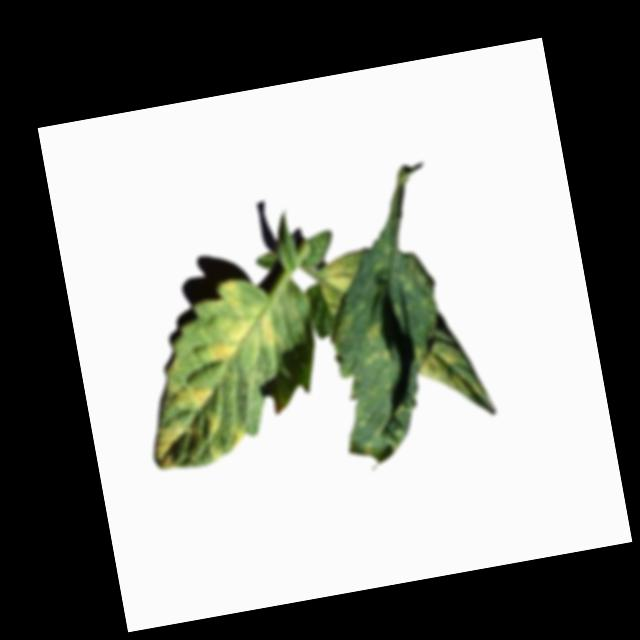Leaf_Mold: (192, 272, 284, 364), (417, 341, 469, 401), (151, 415, 200, 474), (157, 375, 217, 416), (318, 251, 364, 301), (357, 321, 393, 371), (229, 425, 249, 452)
